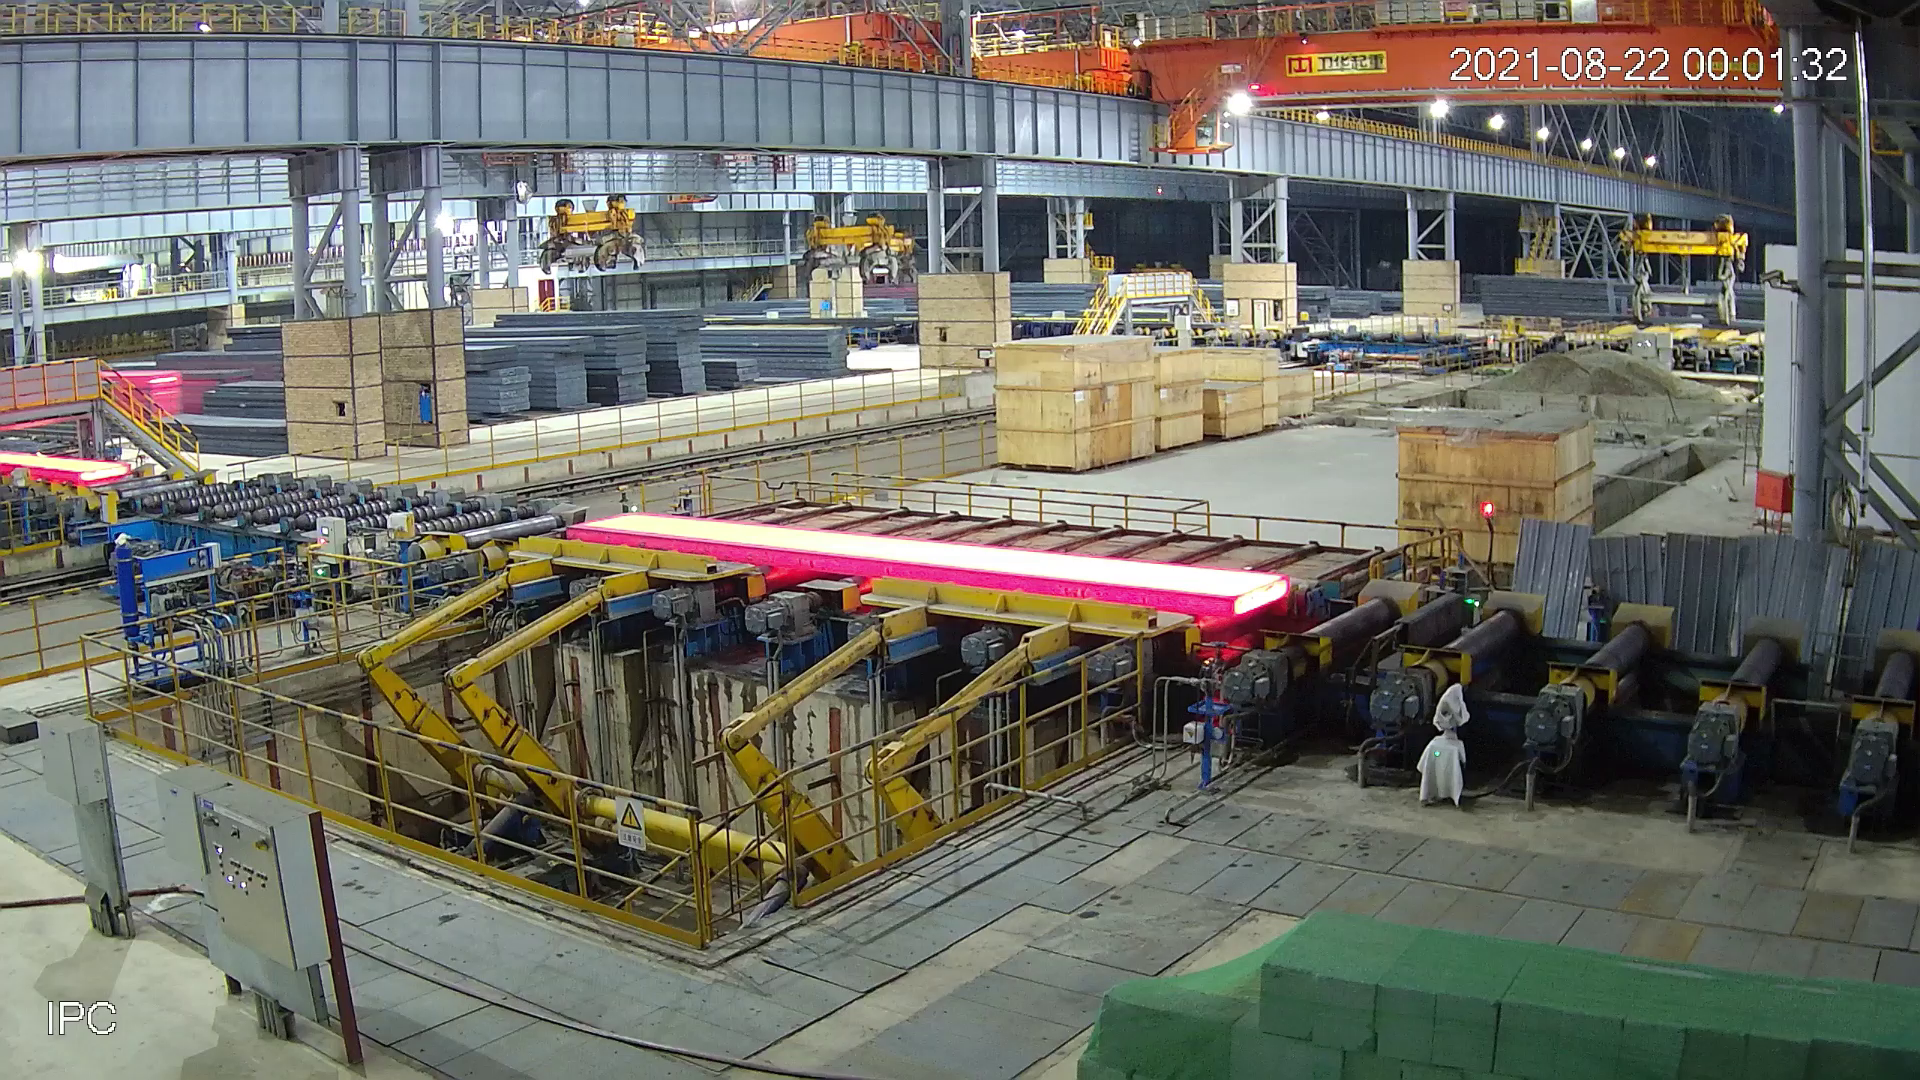slab: (562, 510, 1294, 622), (1, 444, 138, 489)
